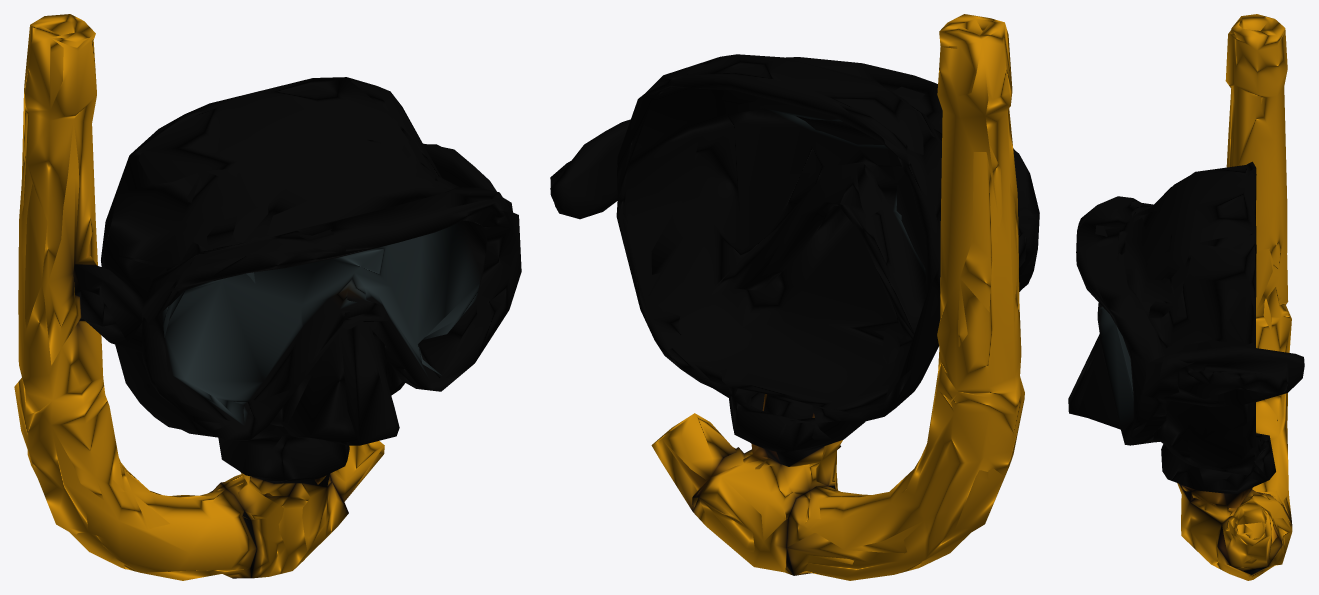
File: gen3d-snorkel-mask-lod0.glb
The picture shows the model from 3 angles, left to right: view 1: azimuth 30°, elevation 25°; view 2: azimuth 150°, elevation 25°; view 3: azimuth 270°, elevation 25°; orthographic projection. The views are drawn at different scales.
Visible parts, largest first — view 1: part_0; view 2: part_0; view 3: part_0.
Part boxes in pixels (bbox=[...]): part_0: bbox=[14, 14, 521, 580]; part_0: bbox=[550, 14, 1039, 580]; part_0: bbox=[1068, 14, 1304, 580].
Bounding box in the file's own units: 0.7829 × 0.999 × 0.4498.
